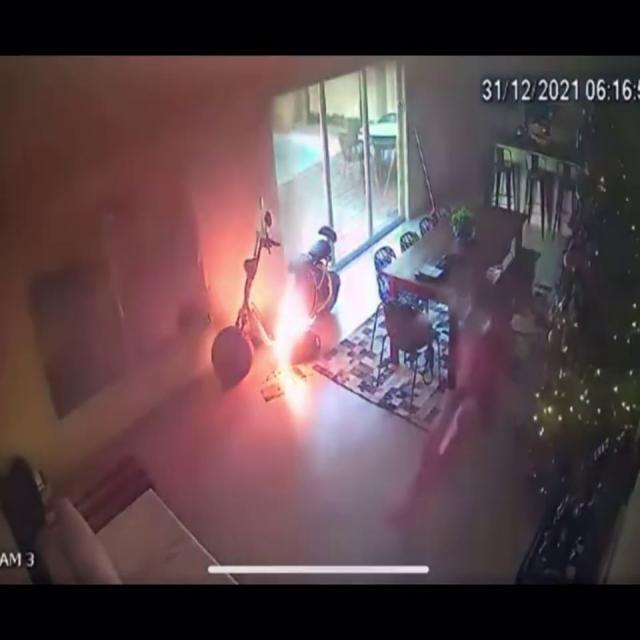Fire: (256, 238, 314, 400)
Smoke: (0, 56, 213, 482)
